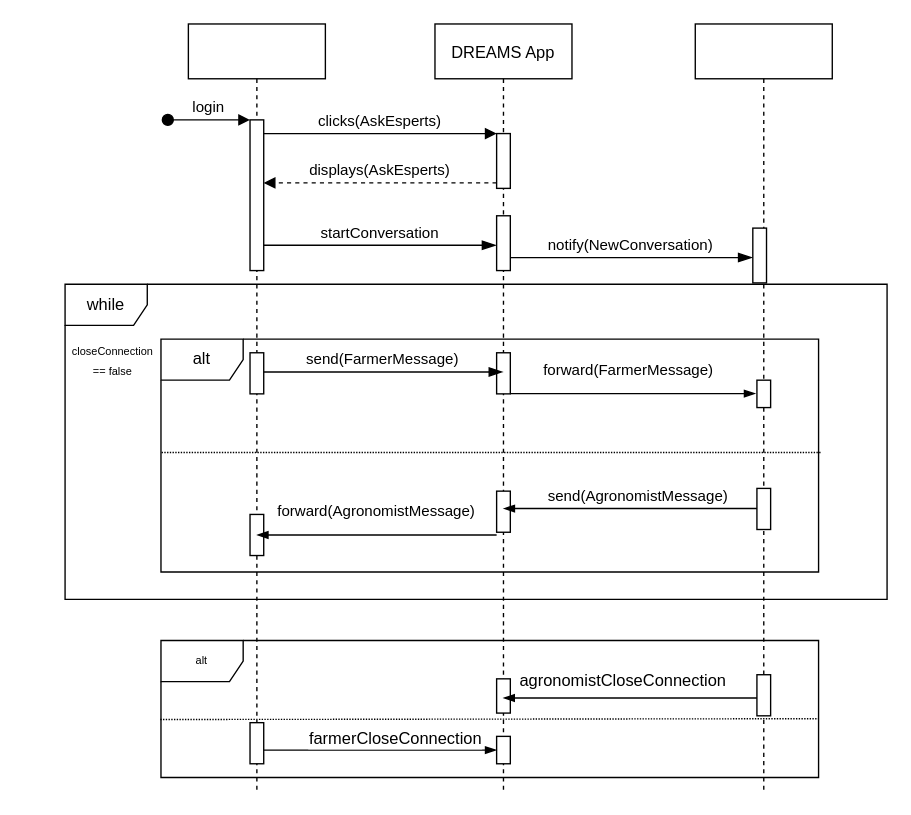
The diagram is 911 pixels wide and 815 high, and some of its shapes have lost their labels. The centre of each missing label's shape, as x and y in pixels:
"Agronomist" goes at point (763, 407).
"Farmer" goes at point (256, 407).
